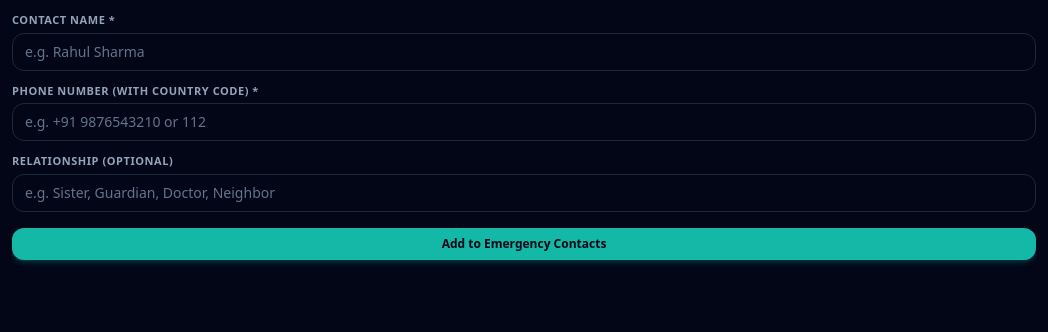
ContactForm Component › rejects invalid phone numbers with error message
Type "Jane Doe" into the field with placeholder "e.g. Rahul Sharma".
click(524, 52); type("Jane Doe")  # box [12,32,1036,70]
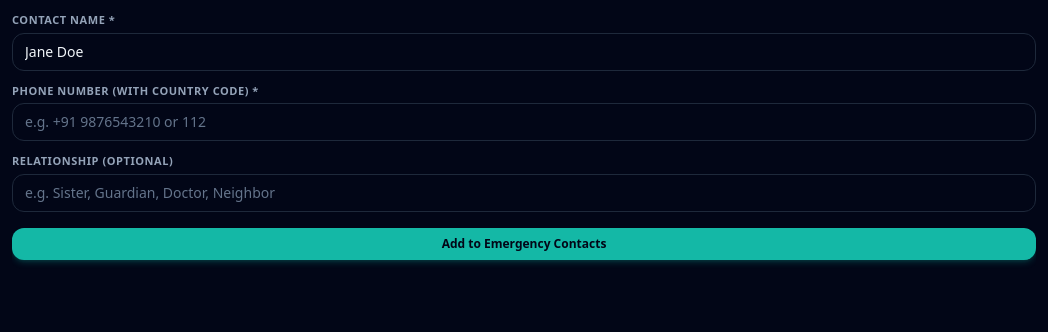
Type "not-a-number" into the field with placeholder "e.g. +91 9876543210 or 112".
click(524, 122); type("not-a-number")  # box [12,103,1036,141]
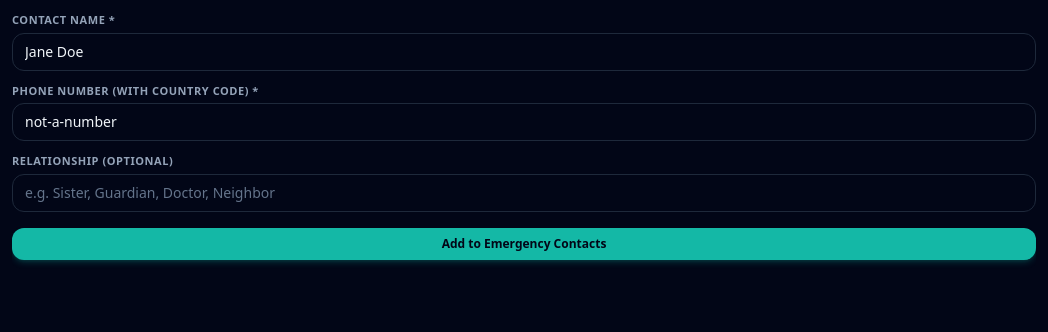
Submit the form named "Add to Emergency Contacts"
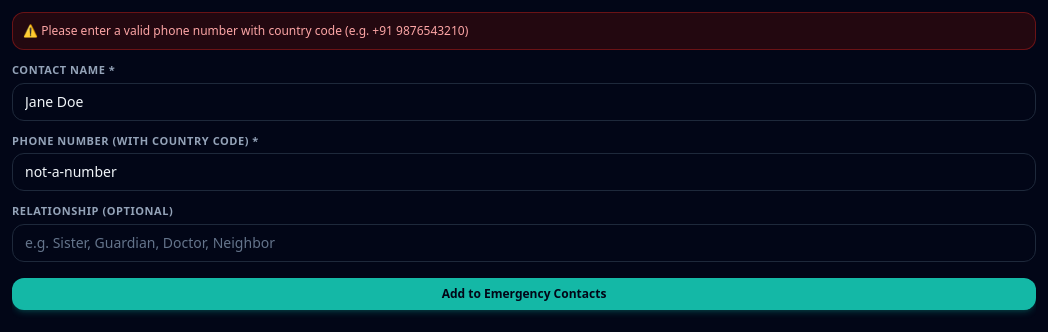
Check: the text "valid phone number with country code" is shown, box [41,22,468,39]
